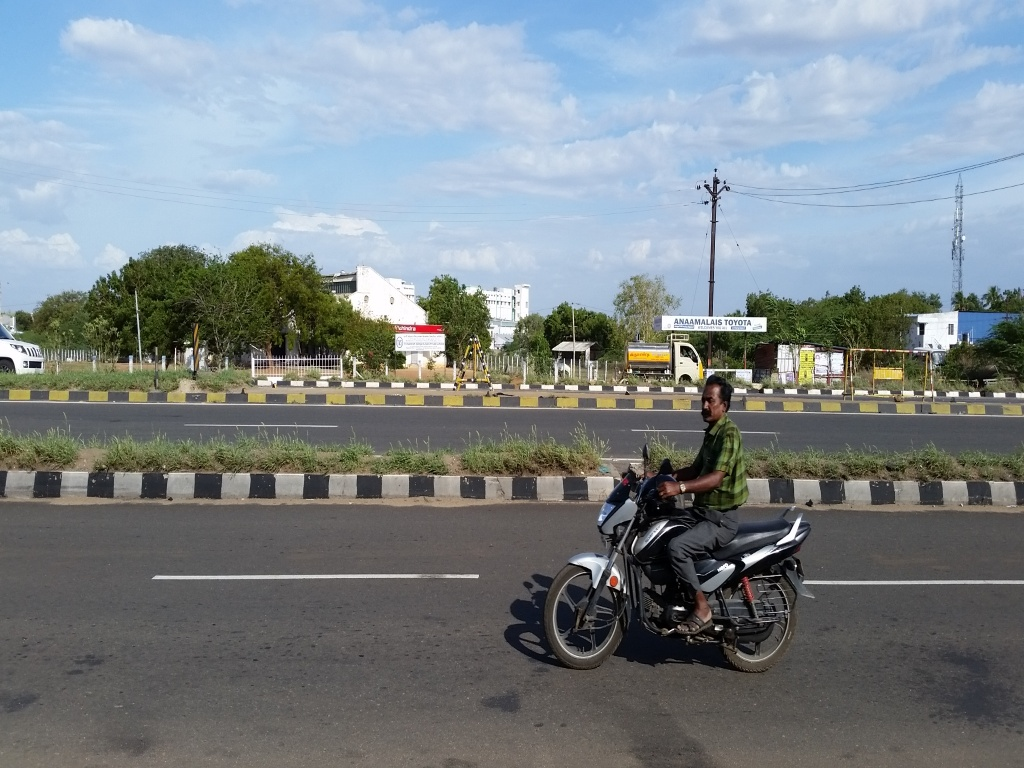biker: (532, 343, 828, 680)
nohelmet: (688, 360, 743, 440)
